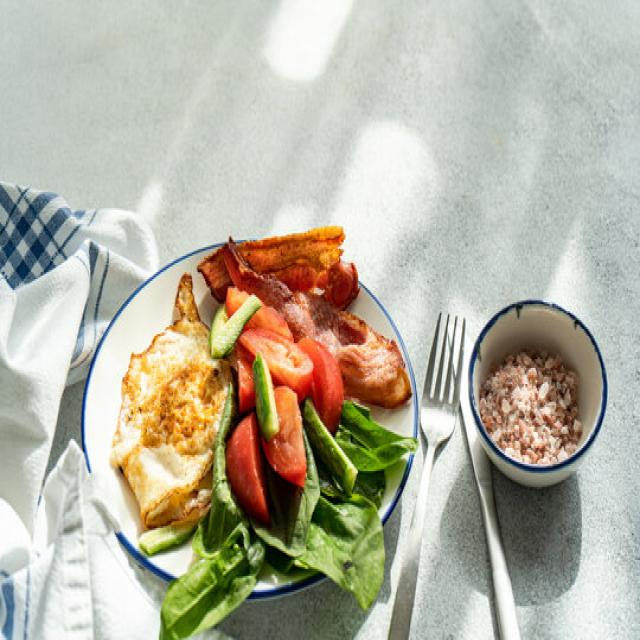Egg: (111, 274, 230, 528)
